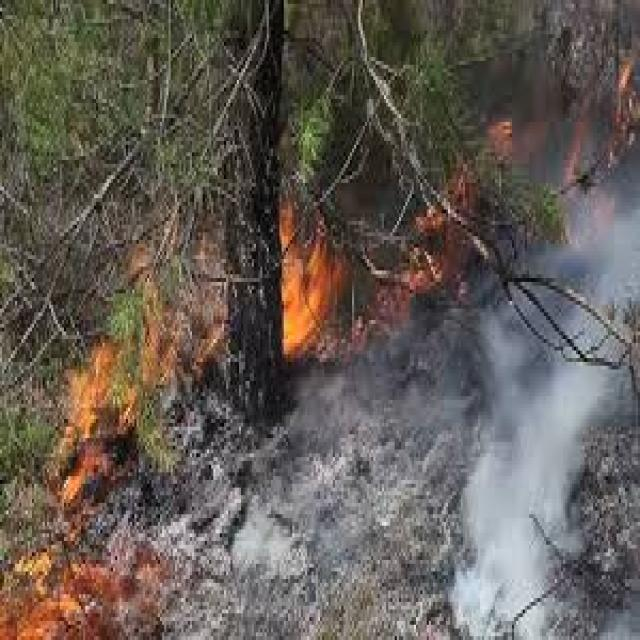Fire: (36, 316, 162, 520), (282, 192, 350, 386), (0, 541, 109, 640)
Smoke: (457, 399, 585, 640), (550, 172, 640, 274)
